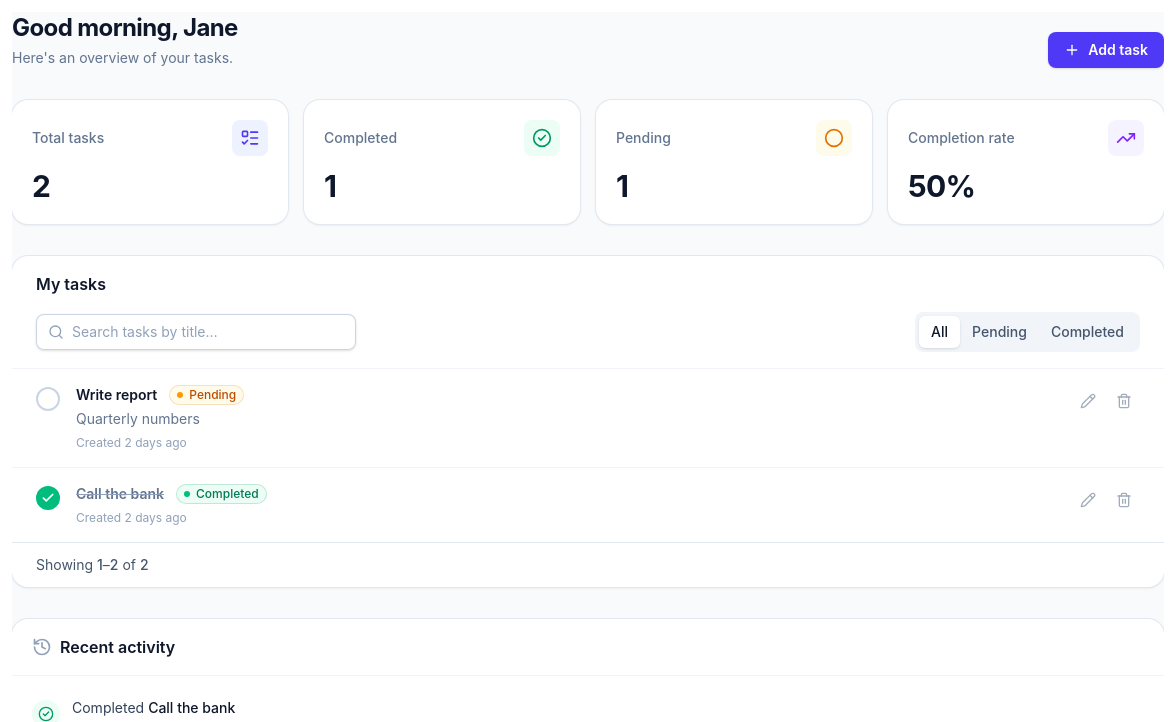
DashboardPage › toggles completion when the checkbox is clicked
The width and height of the screenshot is (1176, 722).
Click the checkbox named "mark “write report” as completed" at (48, 399), box [36,387,60,411]
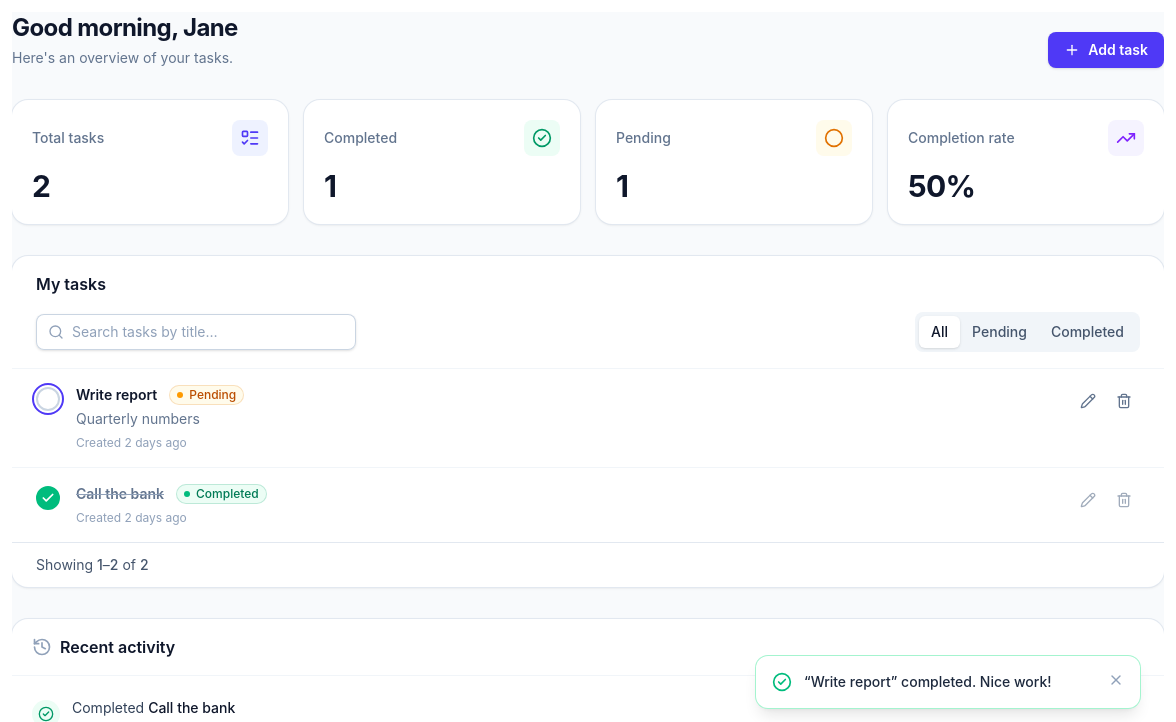
Expected: the text "“Write report” completed. Nice work!" is shown, [804,673,1052,690]
